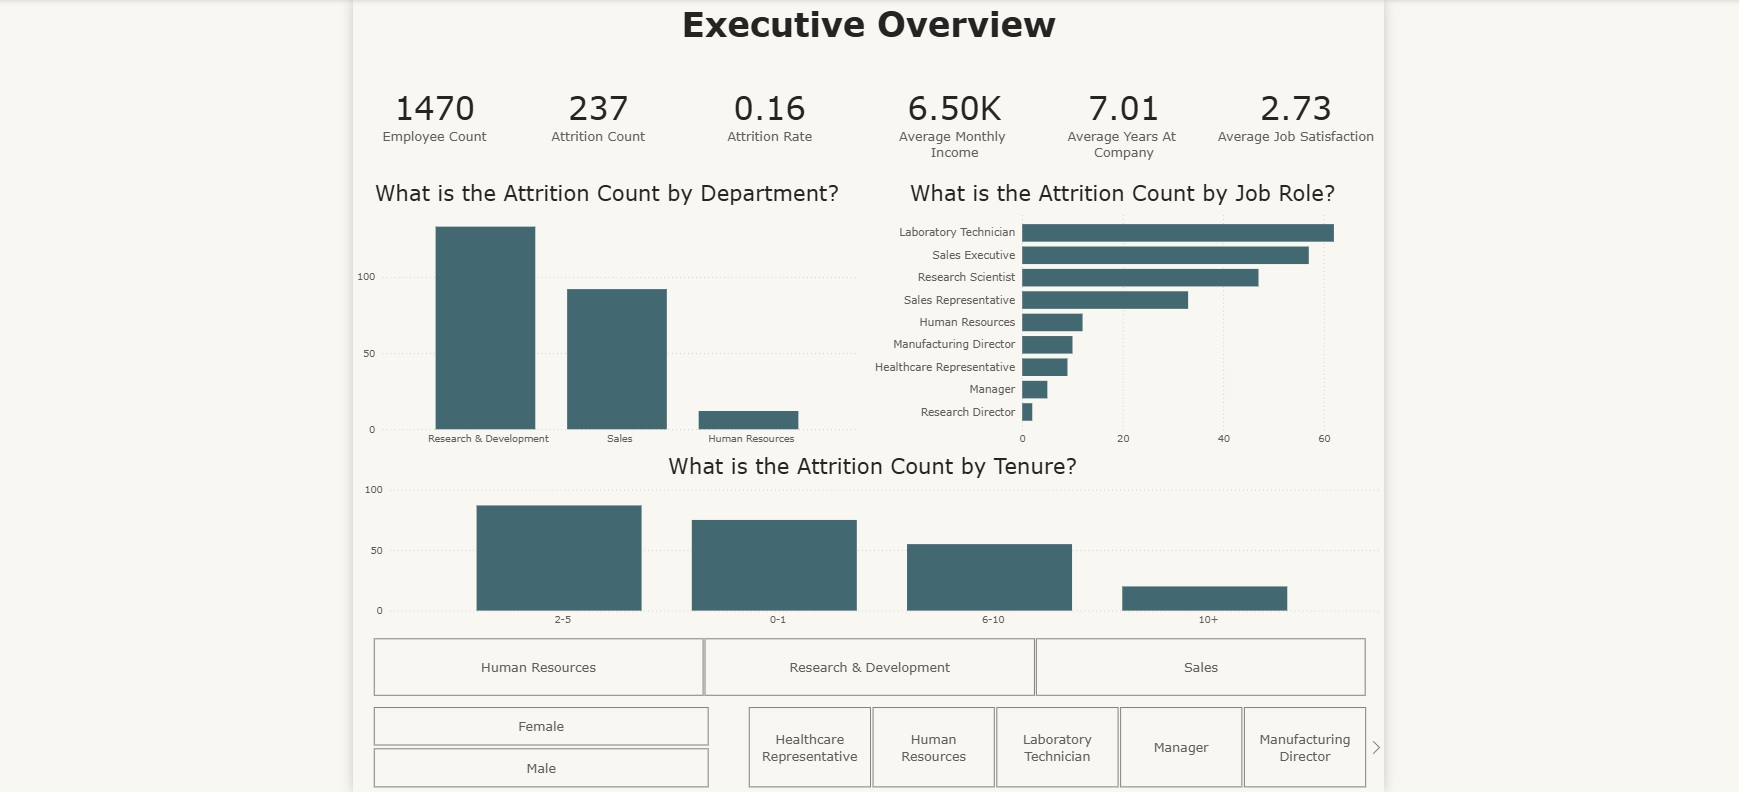

What the dashboard file says about the page in this screenshot:
{"tool":"powerbi","page":{"name":"Page 1","canvas":[1300,1000],"ordinal":0},"visuals":[{"type":"card","fields":{"Values":["Cleaned_HR_Analytics.Total Employees"]},"box":[0,63.8,205.8,162.7],"z":0},{"type":"card","fields":{"Values":["Cleaned_HR_Analytics.Attrition Count"]},"box":[205.8,63.8,205.8,162.7],"z":1},{"type":"card","fields":{"Values":["Cleaned_HR_Analytics.Attrition Rate"]},"box":[411.6,63.8,228.1,162.7],"z":2},{"type":"card","fields":{"Values":["Avg(Cleaned_HR_Analytics.MonthlyIncome)"]},"box":[649.3,63.8,218.6,162.7],"z":3},{"type":"card","fields":{"Values":["Avg(Cleaned_HR_Analytics.YearsAtCompany)"]},"box":[867.9,63.8,207.4,162.7],"z":4},{"type":"card","fields":{"Values":["Avg(Cleaned_HR_Analytics.JobSatisfaction)"]},"box":[1075.3,63.8,225,162.7],"z":5},{"type":"clusteredColumnChart","title":"What is the Attrition Count by Department?","fields":{"Y":["Cleaned_HR_Analytics.Attrition Count"],"Category":["Cleaned_HR_Analytics.Department"]},"box":[0,226.5,639.8,344.6],"z":6},{"type":"clusteredBarChart","title":"What is the Attrition Count by Job Role?","fields":{"Y":["Cleaned_HR_Analytics.Attrition Count"],"Category":["Cleaned_HR_Analytics.JobRole"]},"box":[639.8,226.5,660.5,344.6],"z":7},{"type":"clusteredColumnChart","title":"What is the Attrition Count by Tenure?","fields":{"Y":["Cleaned_HR_Analytics.Attrition Count"],"Category":["Cleaned_HR_Analytics.YearsAtCompany (groups)"]},"box":[9.6,571.2,1290.7,228.1],"z":8},{"type":"slicer","fields":{"Values":["Cleaned_HR_Analytics.Department"]},"box":[0,799.3,1300.3,86.2],"z":9},{"type":"slicer","fields":{"Values":["Cleaned_HR_Analytics.Gender"]},"box":[0,885.5,472.2,114.9],"z":10},{"type":"slicer","fields":{"Values":["Cleaned_HR_Analytics.JobRole"]},"box":[472.2,885.5,828,114.9],"z":11},{"type":"textbox","box":[0,0,1300.3,63.8],"z":12}]}

Visuals, with their boxes on the page's 1300x1000 design canvas (x1, y1, x2, y2). These are canvas units, not pixel positions in the 1739x792 screenshot, which may show the page scaled, cropped or inside an application window:
card - Cleaned_HR_Analytics.Total Employees: bbox=(0, 64, 206, 226)
card - Cleaned_HR_Analytics.Attrition Count: bbox=(206, 64, 412, 226)
card - Cleaned_HR_Analytics.Attrition Rate: bbox=(412, 64, 640, 226)
card - Avg(Cleaned_HR_Analytics.MonthlyIncome): bbox=(649, 64, 868, 226)
card - Avg(Cleaned_HR_Analytics.YearsAtCompany): bbox=(868, 64, 1075, 226)
card - Avg(Cleaned_HR_Analytics.JobSatisfaction): bbox=(1075, 64, 1300, 226)
"What is the Attrition Count by Department?" clusteredColumnChart: bbox=(0, 226, 640, 571)
"What is the Attrition Count by Job Role?" clusteredBarChart: bbox=(640, 226, 1300, 571)
"What is the Attrition Count by Tenure?" clusteredColumnChart: bbox=(10, 571, 1300, 799)
slicer - Cleaned_HR_Analytics.Department: bbox=(0, 799, 1300, 886)
slicer - Cleaned_HR_Analytics.Gender: bbox=(0, 886, 472, 1000)
slicer - Cleaned_HR_Analytics.JobRole: bbox=(472, 886, 1300, 1000)
textbox: bbox=(0, 0, 1300, 64)
